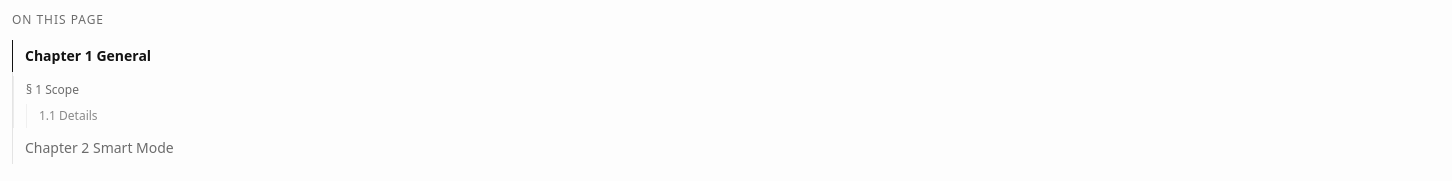
Test case: LegalTableOfContents › renders desktop and compact navigation from extracted legal sections
Expected: the link "§ 2 Data" is not shown
Click the link "Chapter 2 Smart Mode".
click(99, 148)  # box [25,138,174,157]
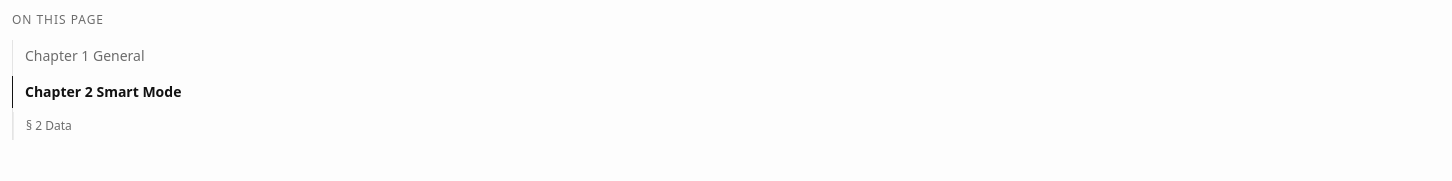
Now the number of links "§ 2 Data" is 2
Now the link "§ 1 Scope" is gone
